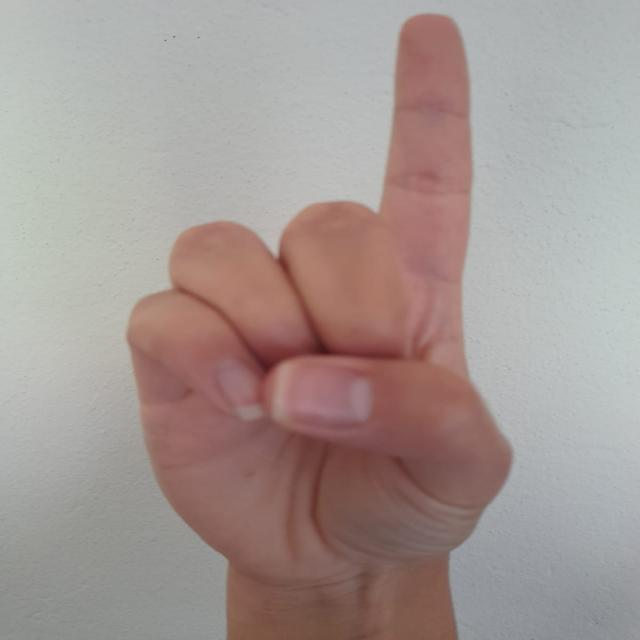D2: (56, 16, 576, 596)
